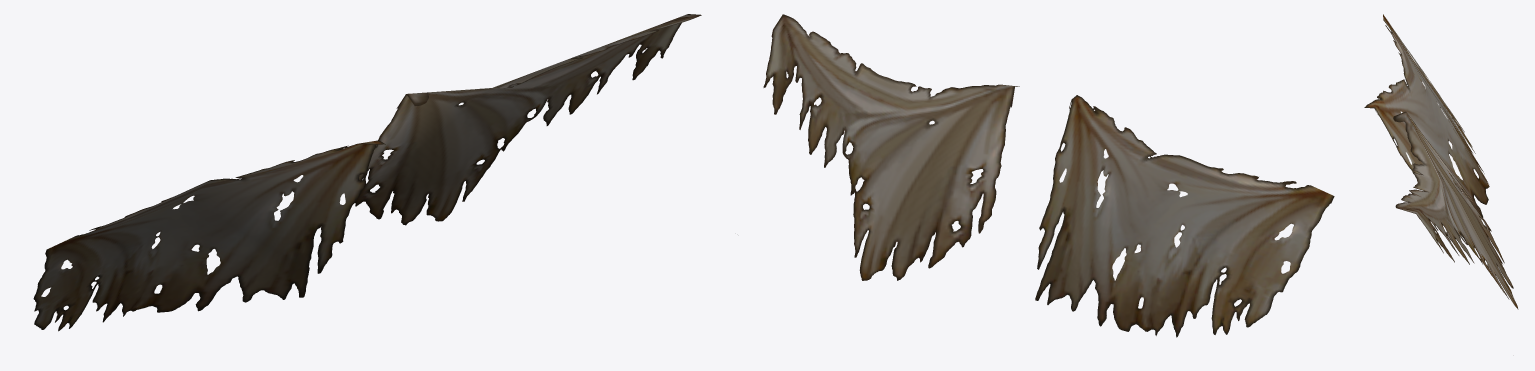
The model's file is 2_YiZhan_Bu_01.FBX.
3 views of the same model, side by side, from view 1: azimuth 30°, elevation 25°; view 2: azimuth 150°, elevation 25°; view 3: azimuth 270°, elevation 25° (orthographic). The views are drawn at different scales.
Visible parts, largest first — view 1: 2_YiZhan_Bu_02, 2_YiZhan_Bu_01; view 2: 2_YiZhan_Bu_02, 2_YiZhan_Bu_01; view 3: 2_YiZhan_Bu_02, 2_YiZhan_Bu_01.
Part boxes in pixels (x1,y1,x2,y2): 2_YiZhan_Bu_02: [33, 140, 385, 331]; 2_YiZhan_Bu_01: [355, 14, 701, 225]; 2_YiZhan_Bu_02: [1035, 95, 1334, 337]; 2_YiZhan_Bu_01: [763, 14, 1019, 280]; 2_YiZhan_Bu_02: [1364, 14, 1489, 241]; 2_YiZhan_Bu_01: [1393, 111, 1518, 309].
Bounding box in the file's own units: 569 × 214 × 155.
Materials: 2 (2 with a texture image).
